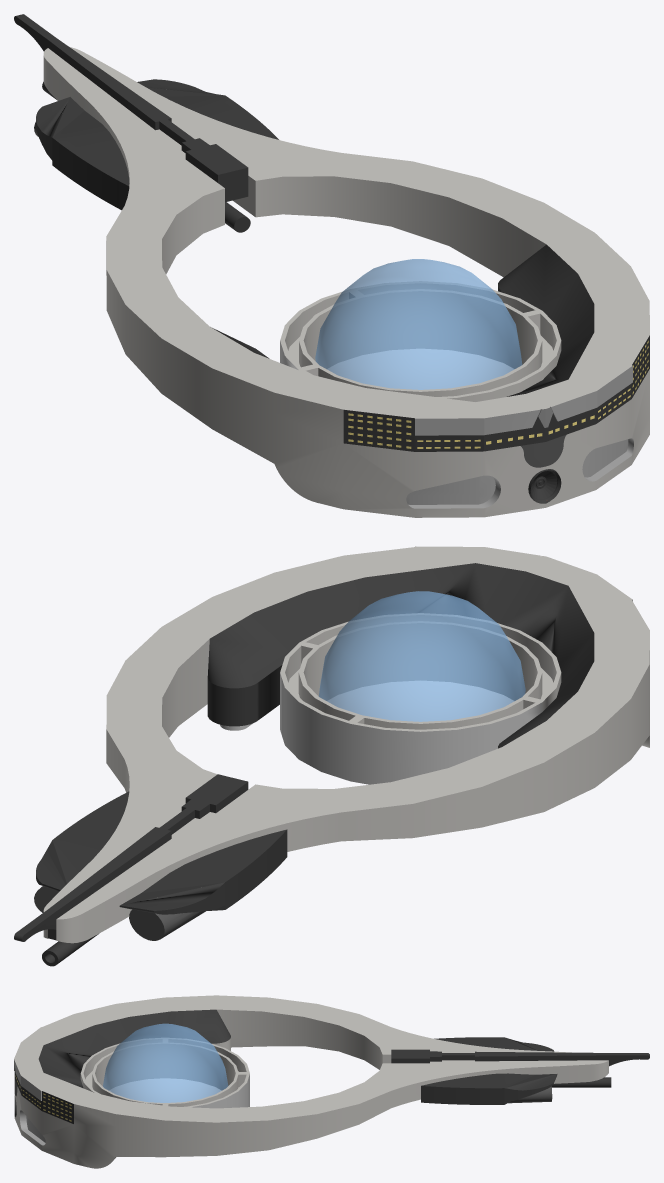
File: Ori Mothership 1.fbx
3 renders of one model, top to bottom at view 1: azimuth 30°, elevation 25°; view 2: azimuth 150°, elevation 25°; view 3: azimuth 270°, elevation 25°, orthographic. The views are drawn at different scales.
Visible parts, largest first — view 1: ske1_1; view 2: ske1_1; view 3: ske1_1.
Part boxes in pixels (x1,y1,x2,y2): ske1_1: [14, 14, 649, 517]; ske1_1: [14, 546, 649, 966]; ske1_1: [14, 995, 649, 1168].
Size of the model in its own units: 15373 by 6404 by 32465.
